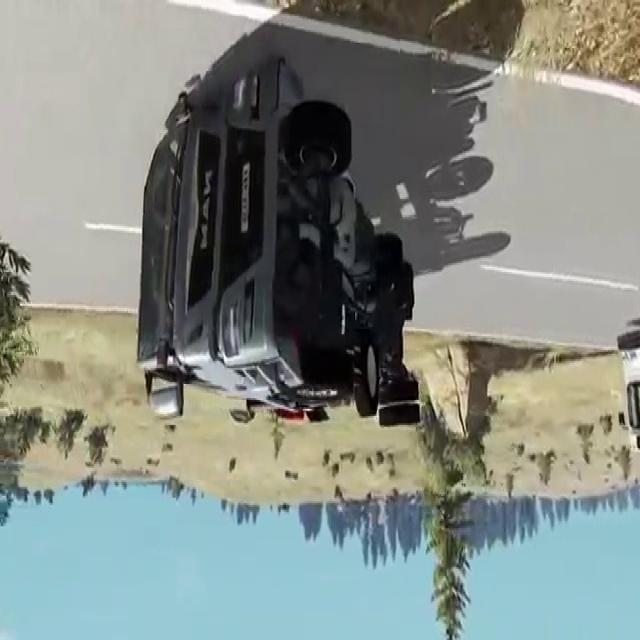severe: (133, 48, 429, 443)
